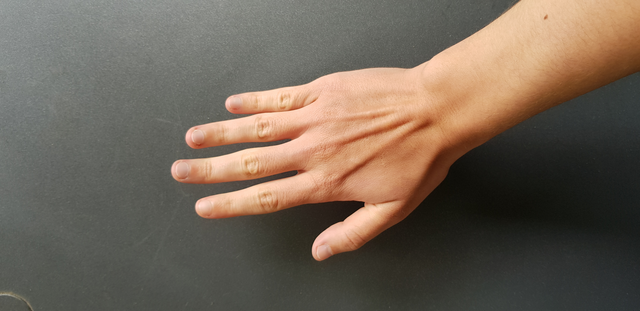Paper: (145, 56, 469, 263)
